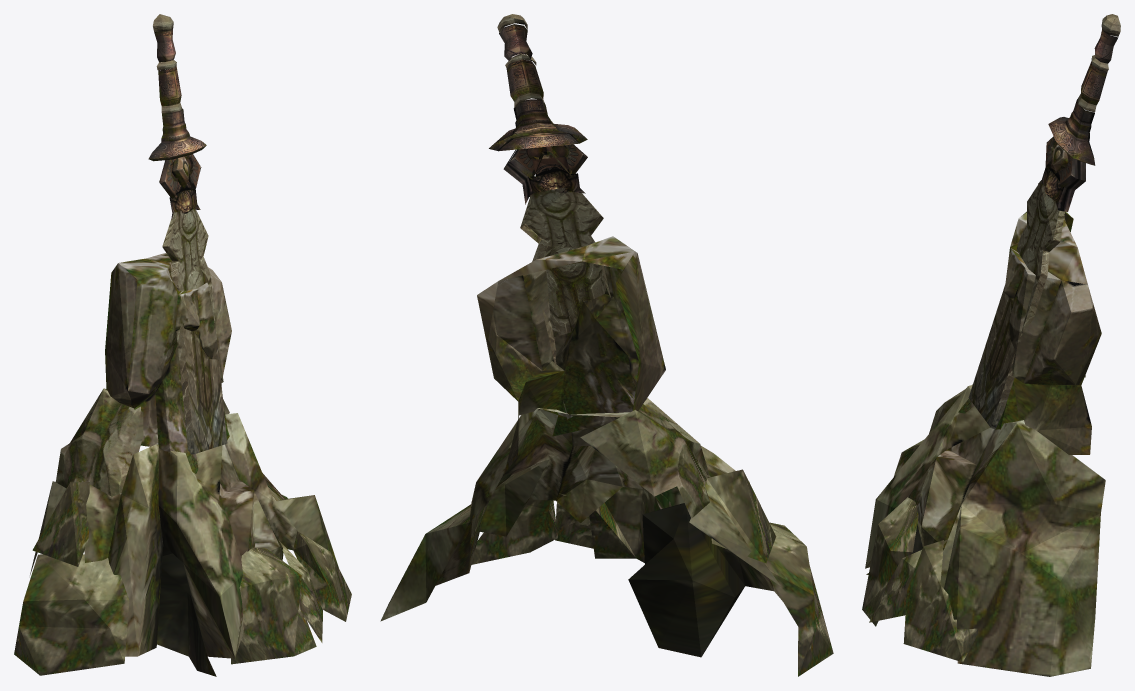
The model's file is zc_jianshi.FBX.
3 views of the same model, side by side, from view 1: azimuth 30°, elevation 25°; view 2: azimuth 150°, elevation 25°; view 3: azimuth 270°, elevation 25° (orthographic). The views are drawn at different scales.
Visible parts, largest first — view 1: DrawCall_0145_002, DrawCall_0145_001; view 2: DrawCall_0145_002, DrawCall_0145_001; view 3: DrawCall_0145_002, DrawCall_0145_001.
Boxes of the visible parts, box(x1,y1,x2,y2) form: DrawCall_0145_002: box(30, 14, 338, 676); DrawCall_0145_001: box(14, 253, 351, 675); DrawCall_0145_002: box(380, 14, 782, 657); DrawCall_0145_001: box(471, 236, 833, 676); DrawCall_0145_002: box(865, 14, 1120, 676); DrawCall_0145_001: box(862, 211, 1101, 662).
Size of the model in its own units: 8.02 by 12.97 by 5.04.
